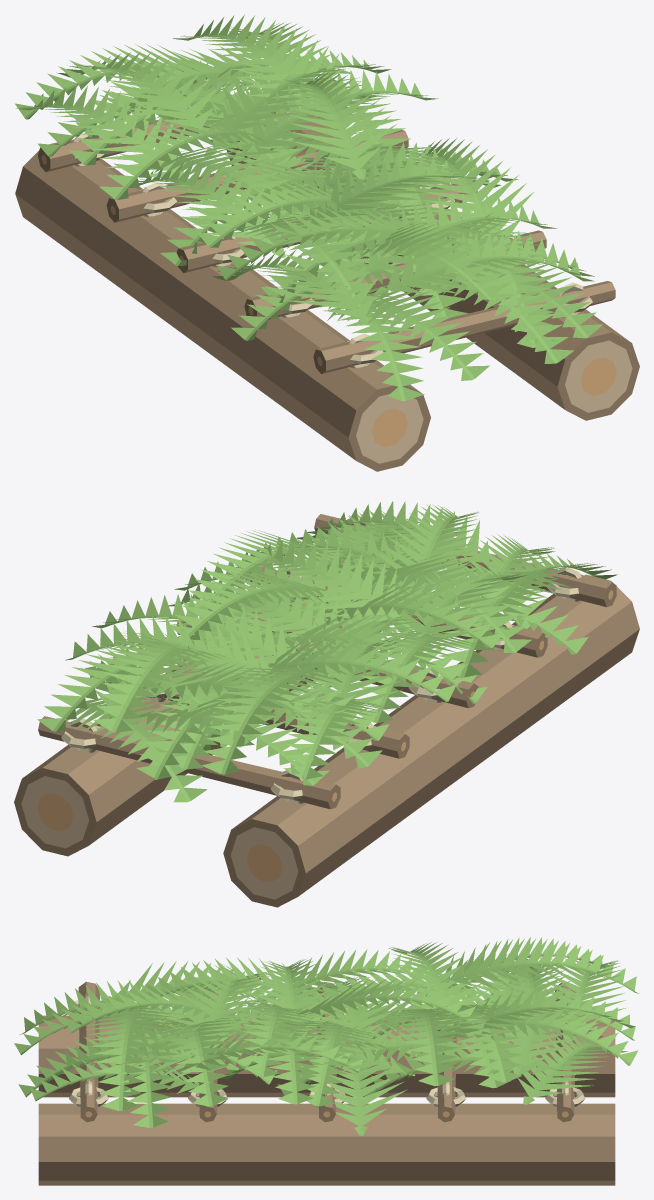
The model's file is bed_basic.glb.
3 views of the same model, one above another, from view 1: azimuth 30°, elevation 25°; view 2: azimuth 150°, elevation 25°; view 3: azimuth 270°, elevation 25° (orthographic). The views are drawn at different scales.
Parts seen in each view (by area): view 1: log_00, log_01, log_02, leaf_15.001, leaf_23.001, leaf_07.001, stick_00.001, leaf_16.001, leaf_24.001, leaf_28.001, leaf_41.001, leaf_30.001 (+42 smaller); view 2: log_01, log_00, log_03, leaf_24.001, stick_04.001, leaf_34.001, leaf_23.001, leaf_42.001, leaf_32.001, leaf_43.001, leaf_41.001, leaf_15.001 (+35 smaller); view 3: log_02, log_03, log_01, log_00, leaf_28.001, leaf_24.001, leaf_30.001, leaf_41.001, leaf_43.001, leaf_37.001, leaf_46, leaf_23.001 (+47 smaller).
Boxes of the visible parts, x1,y1,x2,y2 form: log_00: (180, 262, 430, 471); log_01: (15, 142, 256, 339); log_02: (389, 214, 639, 420); leaf_15.001: (285, 71, 396, 179); leaf_23.001: (173, 14, 339, 106); leaf_07.001: (398, 138, 533, 238); stick_00.001: (313, 281, 615, 373); leaf_16.001: (16, 85, 190, 189); leaf_24.001: (56, 52, 218, 137); leaf_28.001: (373, 231, 594, 295); leaf_41.001: (232, 70, 438, 160); leaf_30.001: (359, 192, 557, 277); log_01: (223, 697, 473, 907); log_00: (400, 574, 639, 774); log_03: (14, 660, 222, 856); leaf_24.001: (201, 666, 341, 774); stick_04.001: (38, 716, 340, 809); leaf_34.001: (235, 539, 413, 630); leaf_23.001: (93, 631, 229, 732); leaf_42.001: (65, 616, 270, 681); leaf_32.001: (362, 553, 531, 652); leaf_43.001: (259, 636, 456, 702); leaf_41.001: (92, 594, 312, 679); leaf_15.001: (165, 568, 326, 650); log_02: (38, 1103, 329, 1185); log_03: (324, 1103, 615, 1185); log_01: (336, 1015, 615, 1097); log_00: (38, 1015, 318, 1097); leaf_28.001: (84, 1006, 179, 1110); leaf_24.001: (441, 938, 638, 993); leaf_30.001: (144, 1015, 239, 1106); leaf_41.001: (376, 1007, 469, 1086); leaf_43.001: (388, 942, 487, 1033); leaf_37.001: (246, 959, 340, 1037); leaf_46: (517, 1032, 627, 1104); leaf_23.001: (437, 989, 634, 1037).
Size of the model in its own units: 1.13 by 0.6069 by 2.1.
